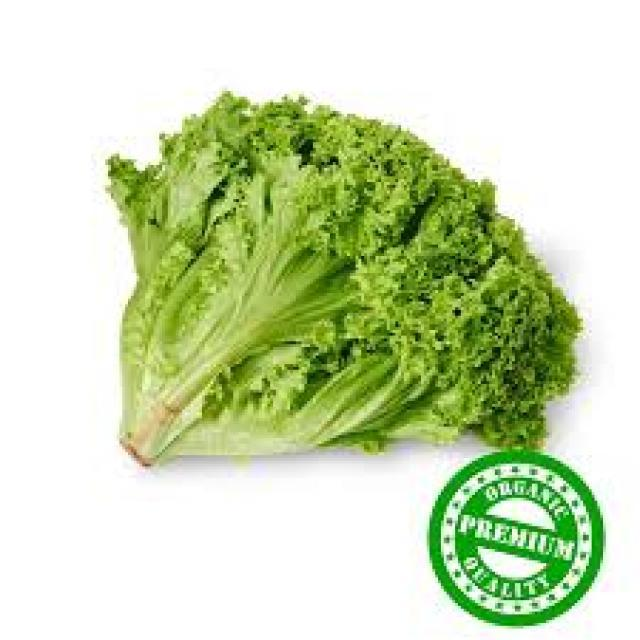Lettuce: (106, 89, 600, 462)
